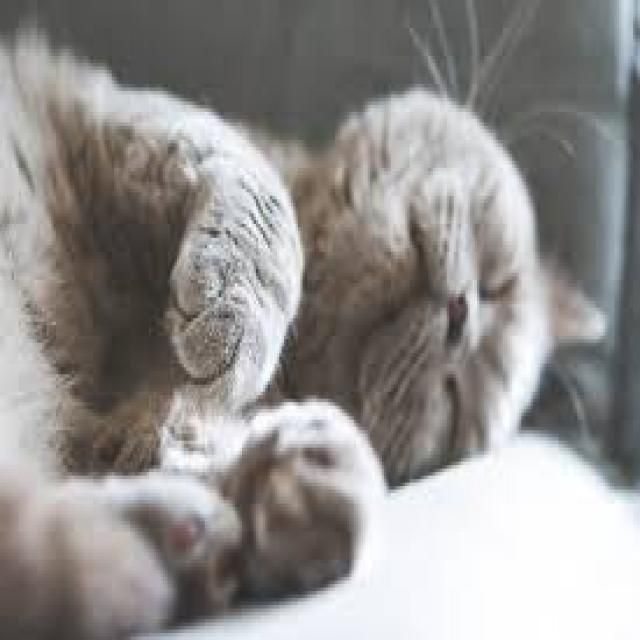Cat: (0, 14, 612, 640)
